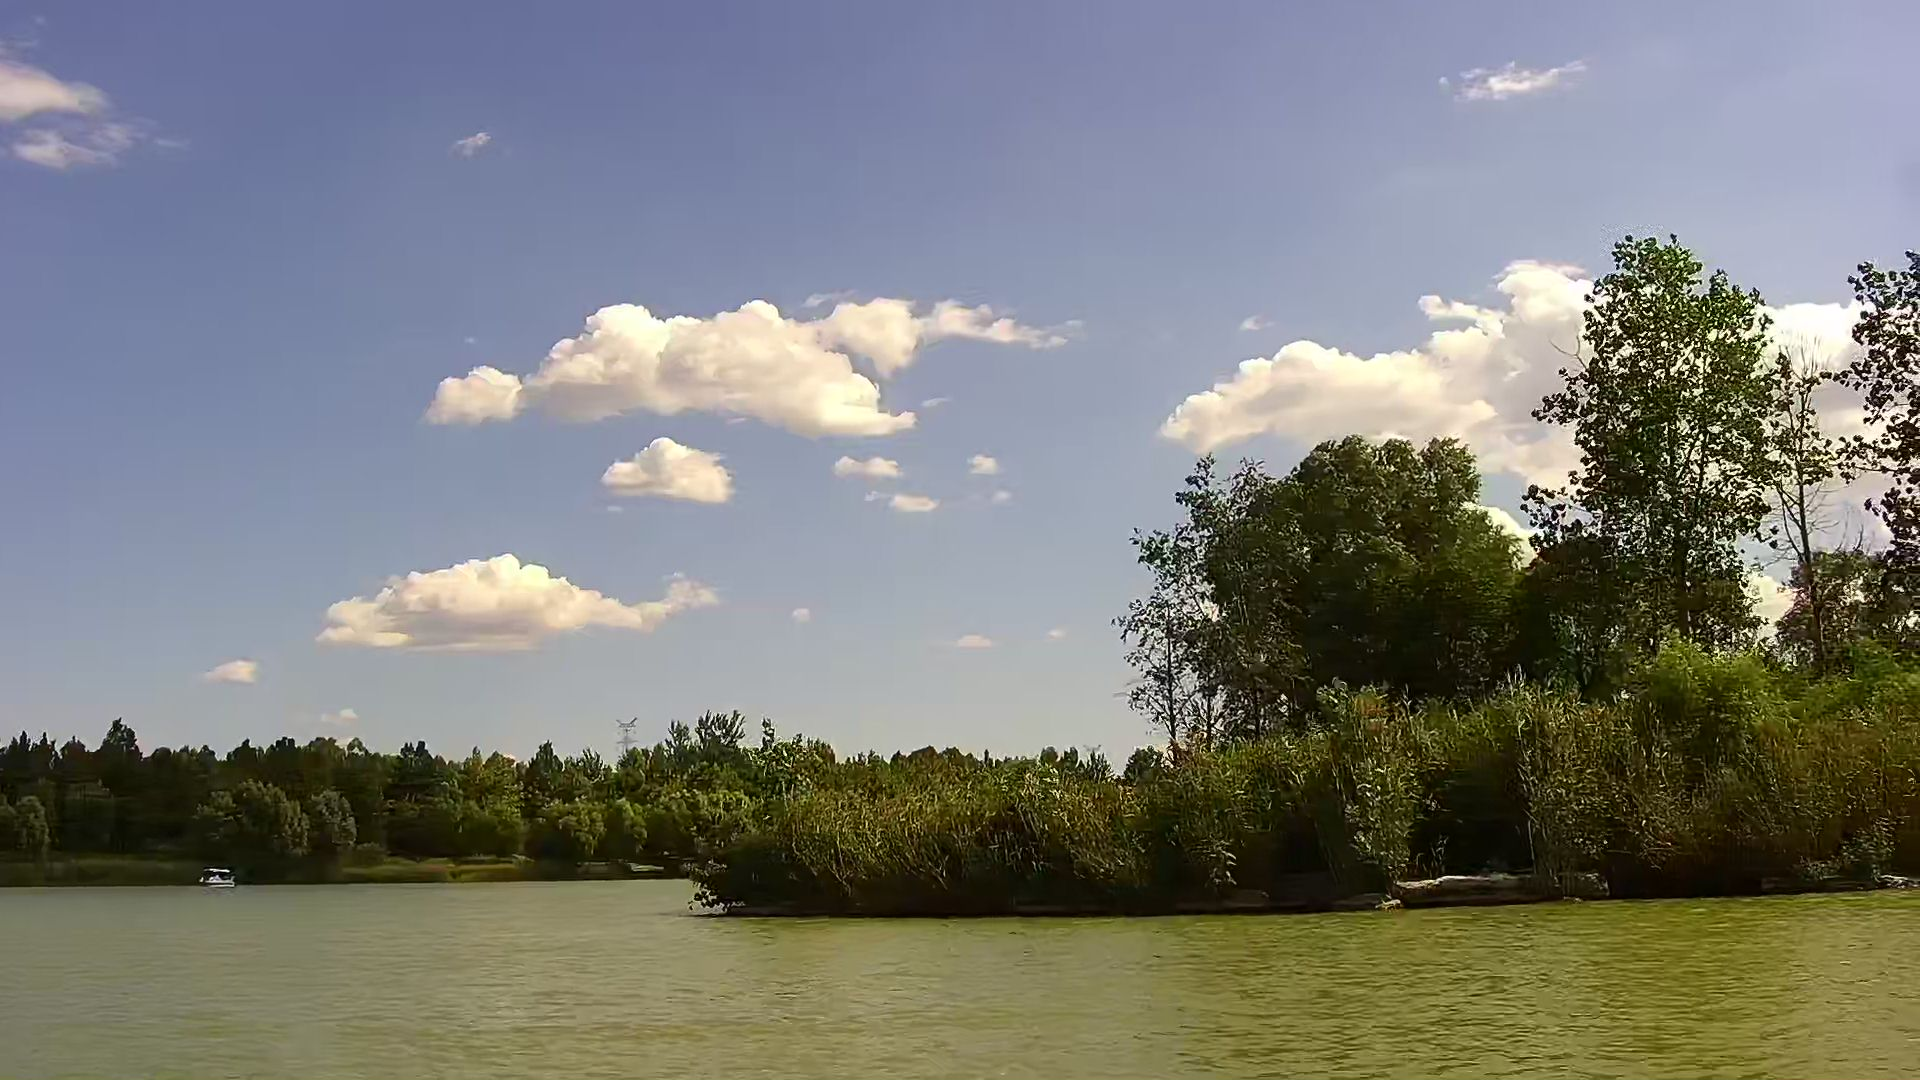boat: (196, 864, 237, 887)
